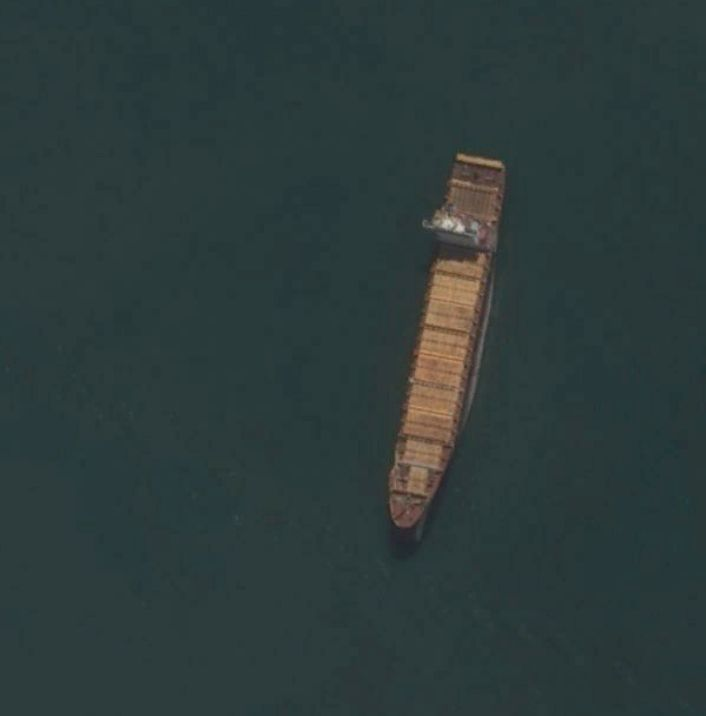boat: (383, 152, 510, 533)
